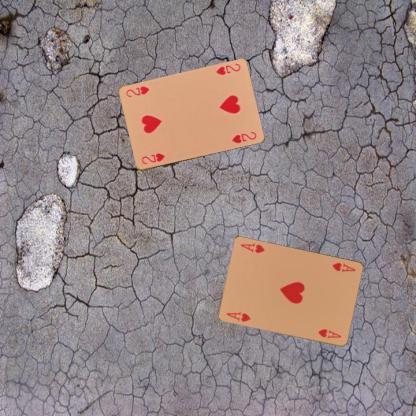2h: (213, 60, 242, 76), (138, 150, 166, 166)
Ah: (224, 309, 252, 323), (330, 260, 357, 274)
